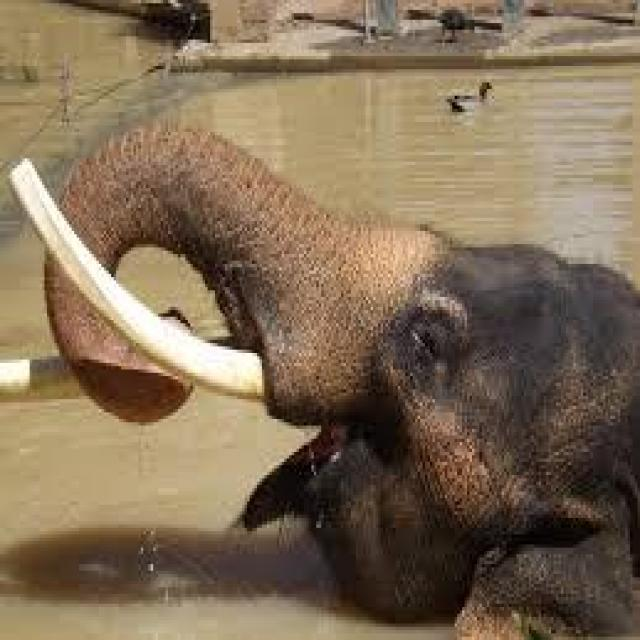Elephant: (42, 106, 638, 634)
